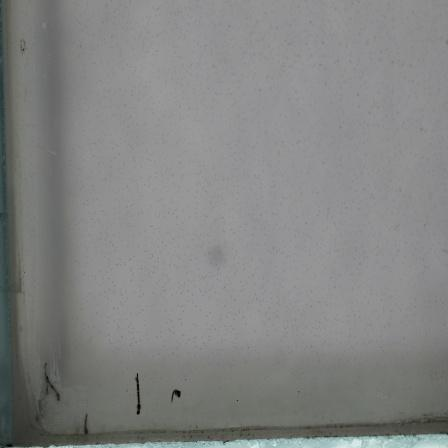Jentik-Nyamuk: (131, 370, 146, 418), (43, 370, 63, 406), (167, 385, 184, 403), (80, 412, 92, 435)
